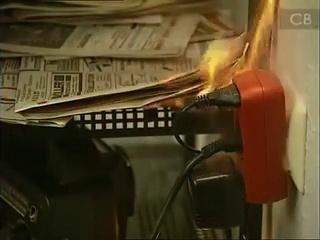Fire: (147, 2, 270, 112)
